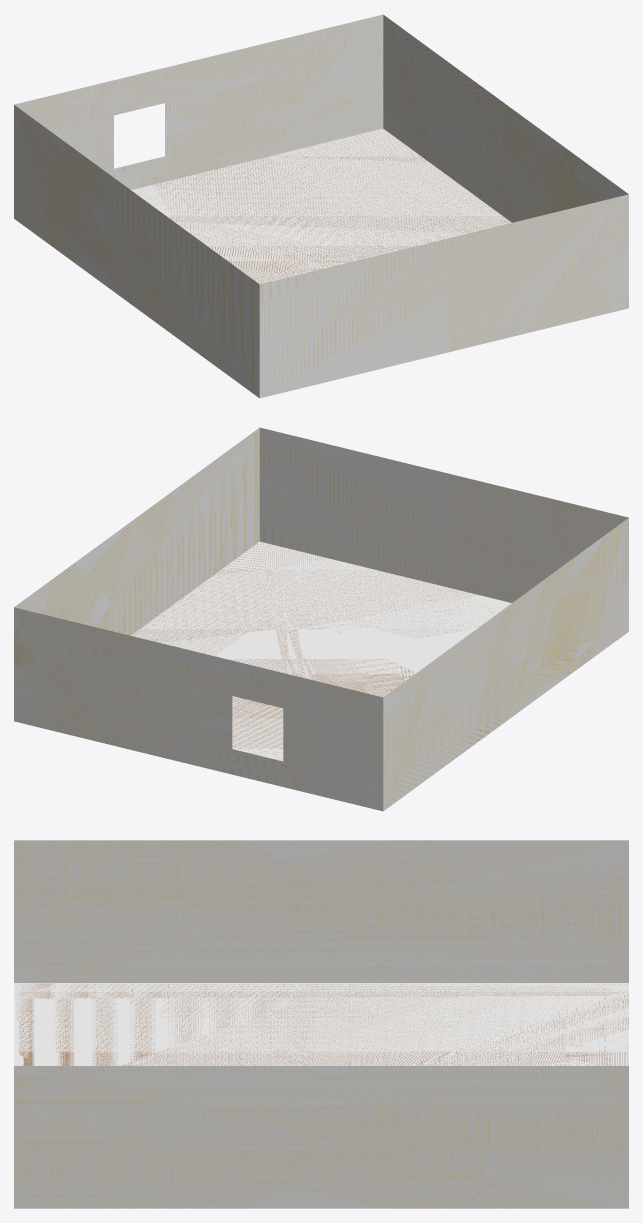
The model's file is CUA003.obj.
The picture shows the model from 3 angles, top to bottom: view 1: azimuth 30°, elevation 25°; view 2: azimuth 150°, elevation 25°; view 3: azimuth 270°, elevation 25°; orthographic projection. The views are drawn at different scales.
Parts seen in each view (by area): view 1: Mesh1 CUA003 Model; view 2: Mesh1 CUA003 Model; view 3: Mesh1 CUA003 Model.
Part boxes in pixels (box(x1,y1,x2,y2)): Mesh1 CUA003 Model: box(14, 14, 628, 398); Mesh1 CUA003 Model: box(14, 427, 628, 811); Mesh1 CUA003 Model: box(14, 840, 628, 1208).
Size of the model in its own units: 10.38 by 3.06 by 11.96.
4 materials, 1 textured.
